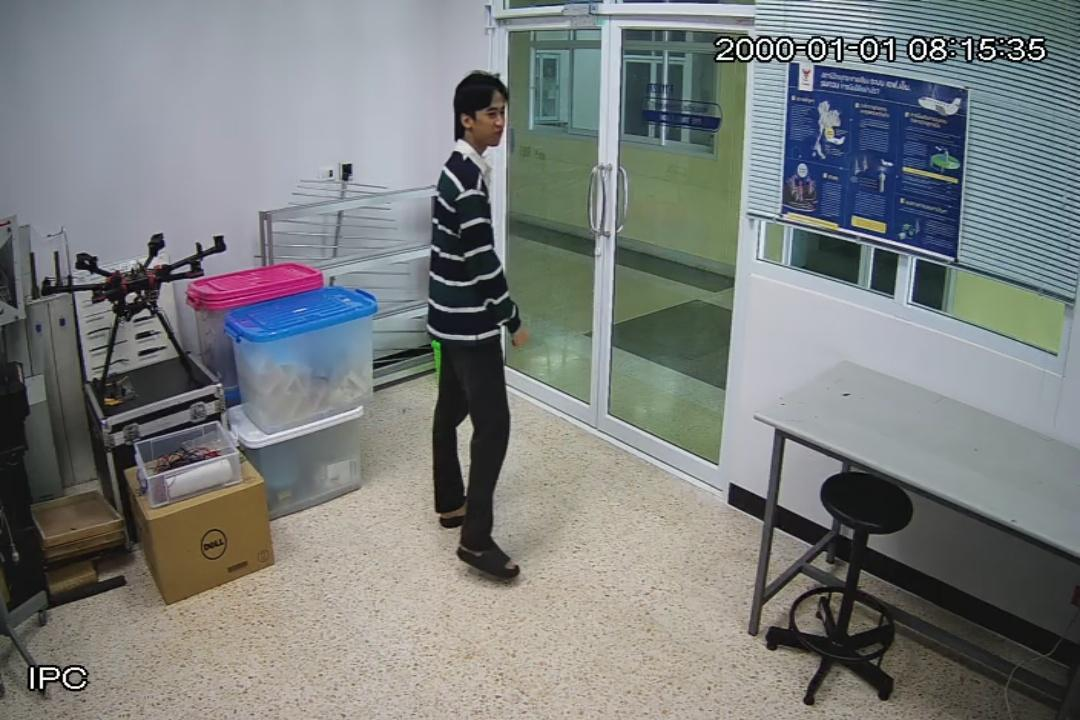normal: (429, 74, 535, 580)
